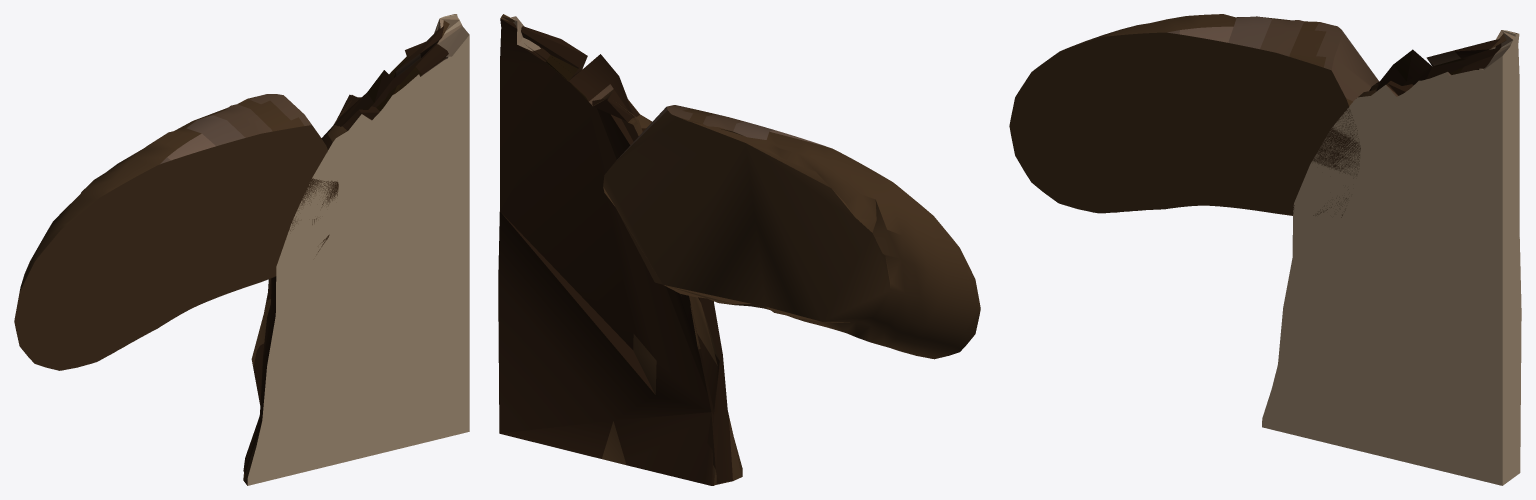
File: tan_dome_tl_damaged.glb
The picture shows the model from 3 angles, left to right: view 1: azimuth 30°, elevation 25°; view 2: azimuth 150°, elevation 25°; view 3: azimuth 330°, elevation 25°; orthographic projection. The views are drawn at different scales.
Parts seen in each view (by area): view 1: tan_dome_tl_damaged_body, tan_dome_tl_damaged_leg1; view 2: tan_dome_tl_damaged_body, tan_dome_tl_damaged_leg1; view 3: tan_dome_tl_damaged_body, tan_dome_tl_damaged_leg1.
Boxes of the visible parts, x1=… form: tan_dome_tl_damaged_body: x1=243, y1=14, x2=469, y2=485; tan_dome_tl_damaged_leg1: x1=14, y1=94, x2=338, y2=370; tan_dome_tl_damaged_body: x1=498, y1=14, x2=742, y2=485; tan_dome_tl_damaged_leg1: x1=603, y1=105, x2=980, y2=359; tan_dome_tl_damaged_body: x1=1262, y1=30, x2=1521, y2=485; tan_dome_tl_damaged_leg1: x1=1009, y1=14, x2=1378, y2=217.
Bounding box in the file's own units: 18.03 × 15.45 × 1.9.
